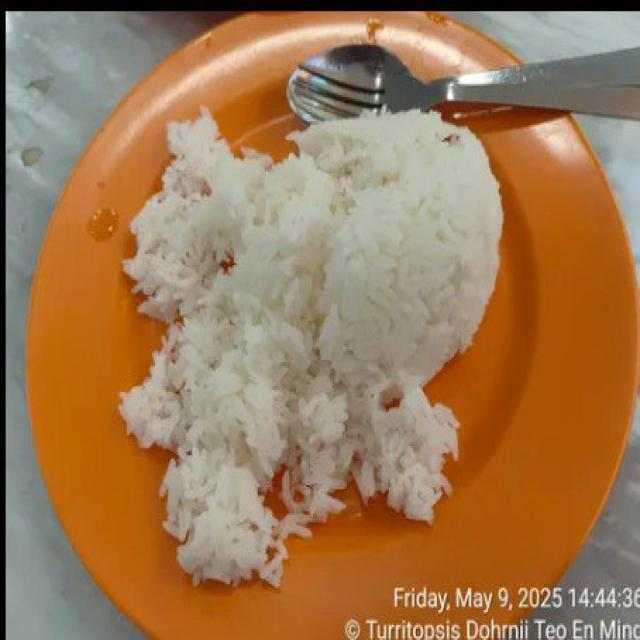Rice: (120, 110, 502, 584)
